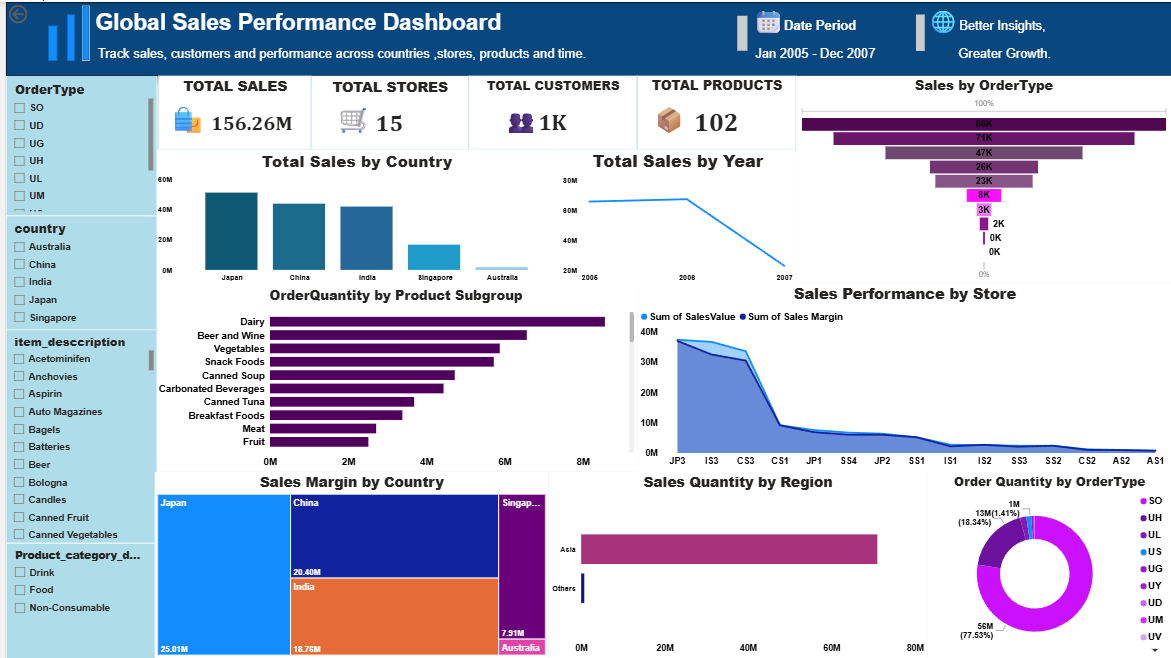

This screenshot's page, from the dashboard's own definition file:
{"tool":"powerbi","page":{"name":"Page 1","canvas":[1280,720],"ordinal":0},"visuals":[{"type":"textbox","box":[0,0,1069,64.5],"z":0},{"type":"textbox","box":[101.5,0,54.9,54.9],"z":1000},{"type":"textbox","box":[948.2,0,53.5,54.9],"z":2000},{"type":"cardVisual","title":"TOTAL SALES","fields":{"Data":["Sales.Total Sales"]},"box":[0,64.5,258,113.9],"z":3000},{"type":"textbox","box":[32.9,109.8,57.6,48],"z":4000},{"type":"cardVisual","title":"TOTAL STORES","fields":{"Data":["Store.TOTAL STORES"]},"box":[258,64.5,260.7,113.9],"z":5000},{"type":"textbox","box":[278.6,109.8,65.9,48],"z":6000},{"type":"cardVisual","title":"TOTAL CUSTOMERS","fields":{"Data":["Customer.Total Customers"]},"box":[518.7,64.5,267.6,113.9],"z":7000},{"type":"textbox","box":[551.6,109.8,74.1,48],"z":8000},{"type":"cardVisual","title":"TOTAL PRODUCTS","fields":{"Data":["Item.TOTAL PRODUCTS"]},"box":[786.3,64.5,282.7,113.9],"z":9000},{"type":"textbox","box":[828.8,109.8,64.5,48],"z":10000},{"type":"clusteredColumnChart","fields":{"Y":["Sales.Total Sales"],"Category":["Customer.Country"]},"box":[0,178.4,666.9,264.8],"z":11000},{"type":"clusteredBarChart","title":"Sum of OrderQuantity by Subgroup_description","fields":{"Category":["Item.Subgroup.subgroup_desc"],"Y":["Sum(Sales.OrderQuantity)"]},"box":[0,455.6,666.9,264.8],"z":12000},{"type":"waterfallChart","fields":{"Y":["Sales.Total Sales"],"Category":["Sales.InvoiceDate.Variation.Date Hierarchy.Year"]},"box":[666.9,455.6,613.4,264.8],"z":13000},{"type":"pieChart","title":"Sum of Sales Quantity by Region","fields":{"Y":["Sum(Sales.SalesQuantity)"],"Category":["Customer.Region"]},"box":[666.9,178.4,613.4,264.8],"z":14000},{"type":"slicer","fields":{"Values":["Customer.Country"]},"box":[1069,0,211.3,91.9],"z":15000},{"type":"slicer","fields":{"Values":["Sales.OrderType"]},"box":[1069,91.9,211.3,86.4],"z":16000},{"type":"actionButton","box":[0,0,100,40],"z":17000}]}

Visuals, with their boxes in screenshot pixels (x1, y1, x2, y2), scaled from the page's 1280x720 canvas onto the 1171x658 screenshot:
textbox: locate(0, 0, 978, 59)
textbox: locate(93, 0, 143, 50)
textbox: locate(867, 0, 916, 50)
"TOTAL SALES" cardVisual: locate(0, 59, 236, 163)
textbox: locate(30, 100, 83, 144)
"TOTAL STORES" cardVisual: locate(236, 59, 475, 163)
textbox: locate(255, 100, 315, 144)
"TOTAL CUSTOMERS" cardVisual: locate(475, 59, 719, 163)
textbox: locate(505, 100, 572, 144)
"TOTAL PRODUCTS" cardVisual: locate(719, 59, 978, 163)
textbox: locate(758, 100, 817, 144)
clusteredColumnChart - Sales.Total Sales x Customer.Country: locate(0, 163, 610, 405)
"Sum of OrderQuantity by Subgroup_description" clusteredBarChart: locate(0, 416, 610, 657)
waterfallChart - Sales.Total Sales x Sales.InvoiceDate.Variation.Date Hierarchy.Year: locate(610, 416, 1170, 657)
"Sum of Sales Quantity by Region" pieChart: locate(610, 163, 1170, 405)
slicer - Customer.Country: locate(978, 0, 1170, 84)
slicer - Sales.OrderType: locate(978, 84, 1170, 163)
actionButton: locate(0, 0, 91, 37)
